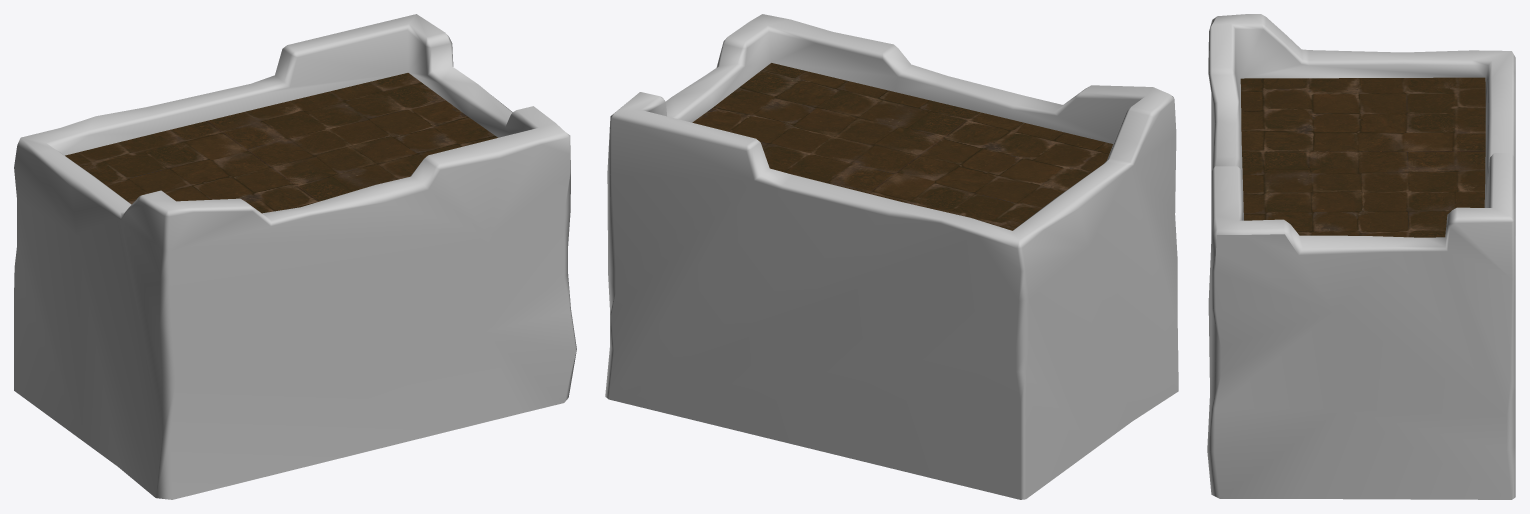
File: lower_city_house_01.fbx
The picture shows the model from 3 angles, left to right: view 1: azimuth 30°, elevation 25°; view 2: azimuth 150°, elevation 25°; view 3: azimuth 270°, elevation 25°; orthographic projection. The views are drawn at different scales.
Parts seen in each view (by area): view 1: lower_city_house_01; view 2: lower_city_house_01; view 3: lower_city_house_01.
Part boxes in pixels (bbox=[...]): lower_city_house_01: bbox=[14, 14, 576, 499]; lower_city_house_01: bbox=[605, 14, 1178, 499]; lower_city_house_01: bbox=[1207, 14, 1515, 499].
Size of the model in its own units: 4.05 by 2.66 by 2.59.
